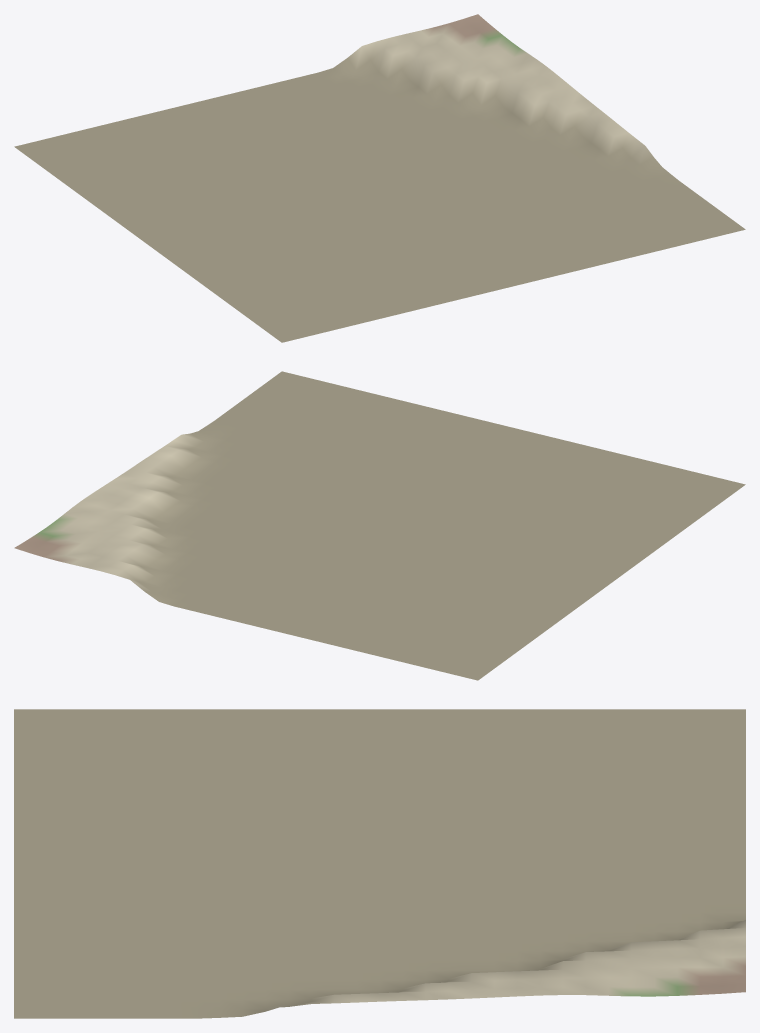
3 views of the same model, one above another, from view 1: azimuth 30°, elevation 25°; view 2: azimuth 150°, elevation 25°; view 3: azimuth 270°, elevation 25° (orthographic). The views are drawn at different scales.
Parts seen in each view (by area): view 1: Terrain-col; view 2: Terrain-col; view 3: Terrain-col.
Boxes of the visible parts, x1,y1,x2,y2 form: Terrain-col: (14,14,745,342); Terrain-col: (14,371,745,680); Terrain-col: (14,709,745,1018).
Size of the model in its own units: 256 by 10.23 by 256.
